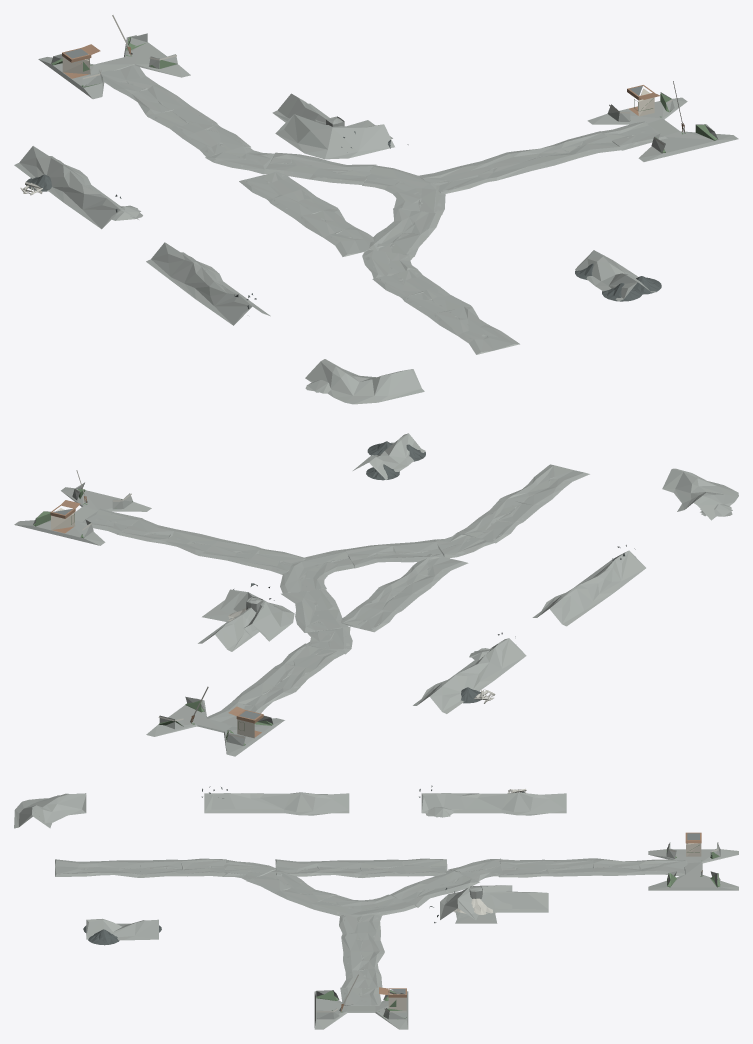
The model's file is desert_military_base_c.glb.
The picture shows the model from 3 angles, top to bottom: view 1: azimuth 30°, elevation 25°; view 2: azimuth 150°, elevation 25°; view 3: azimuth 270°, elevation 25°; orthographic projection. The views are drawn at different scales.
Visible parts, largest first — view 1: trail_path_end_LOD0, checkpoint_single_rural_LOD0, barbedwire_set_straight300_LOD0; view 2: trail_path_end_LOD0, checkpoint_single_rural_LOD0, barbedwire_set_straight300_LOD0; view 3: trail_path_end_LOD0, checkpoint_single_rural_LOD0, cave_gravel_a_LOD0, barbedwire_set_straight300_LOD0.
Part boxes in pixels (box(x1,y1,x2,y2)): trail_path_end_LOD0: box(14, 33, 738, 404); checkpoint_single_rural_LOD0: box(51, 37, 717, 152); barbedwire_set_straight300_LOD0: box(26, 131, 661, 308); trail_path_end_LOD0: box(14, 433, 738, 756); checkpoint_single_rural_LOD0: box(33, 488, 272, 745); barbedwire_set_straight300_LOD0: box(233, 441, 635, 703); trail_path_end_LOD0: box(14, 792, 738, 1029); checkpoint_single_rural_LOD0: box(316, 832, 720, 1019); cave_gravel_a_LOD0: box(316, 788, 718, 1012); barbedwire_set_straight300_LOD0: box(83, 785, 524, 945).
Size of the model in its own units: 93.73 by 8.36 by 120.
